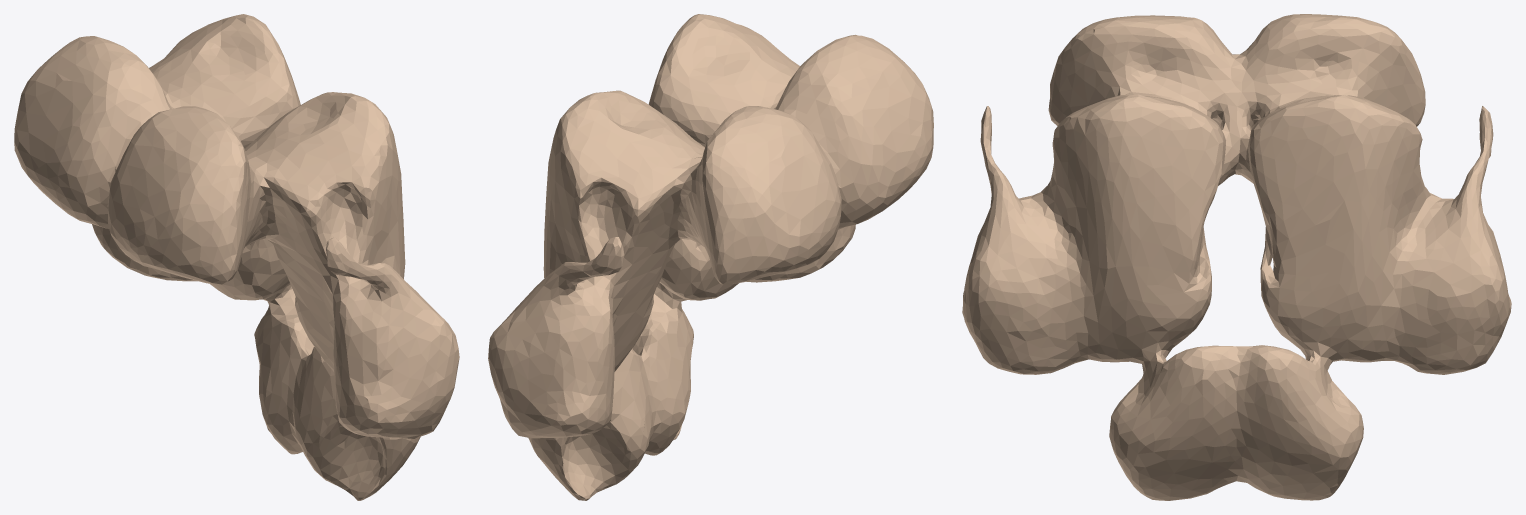
The picture shows the model from 3 angles, left to right: view 1: azimuth 30°, elevation 25°; view 2: azimuth 150°, elevation 25°; view 3: azimuth 270°, elevation 25°; orthographic projection. The views are drawn at different scales.
Parts seen in each view (by area): view 1: 987.obj; view 2: 987.obj; view 3: 987.obj.
Boxes of the visible parts, x1,y1,x2,y2 form: 987.obj: (14,14,459,500); 987.obj: (488,14,933,500); 987.obj: (962,14,1511,500).
Bounding box in the file's own units: 2373 × 3188 × 3883.
